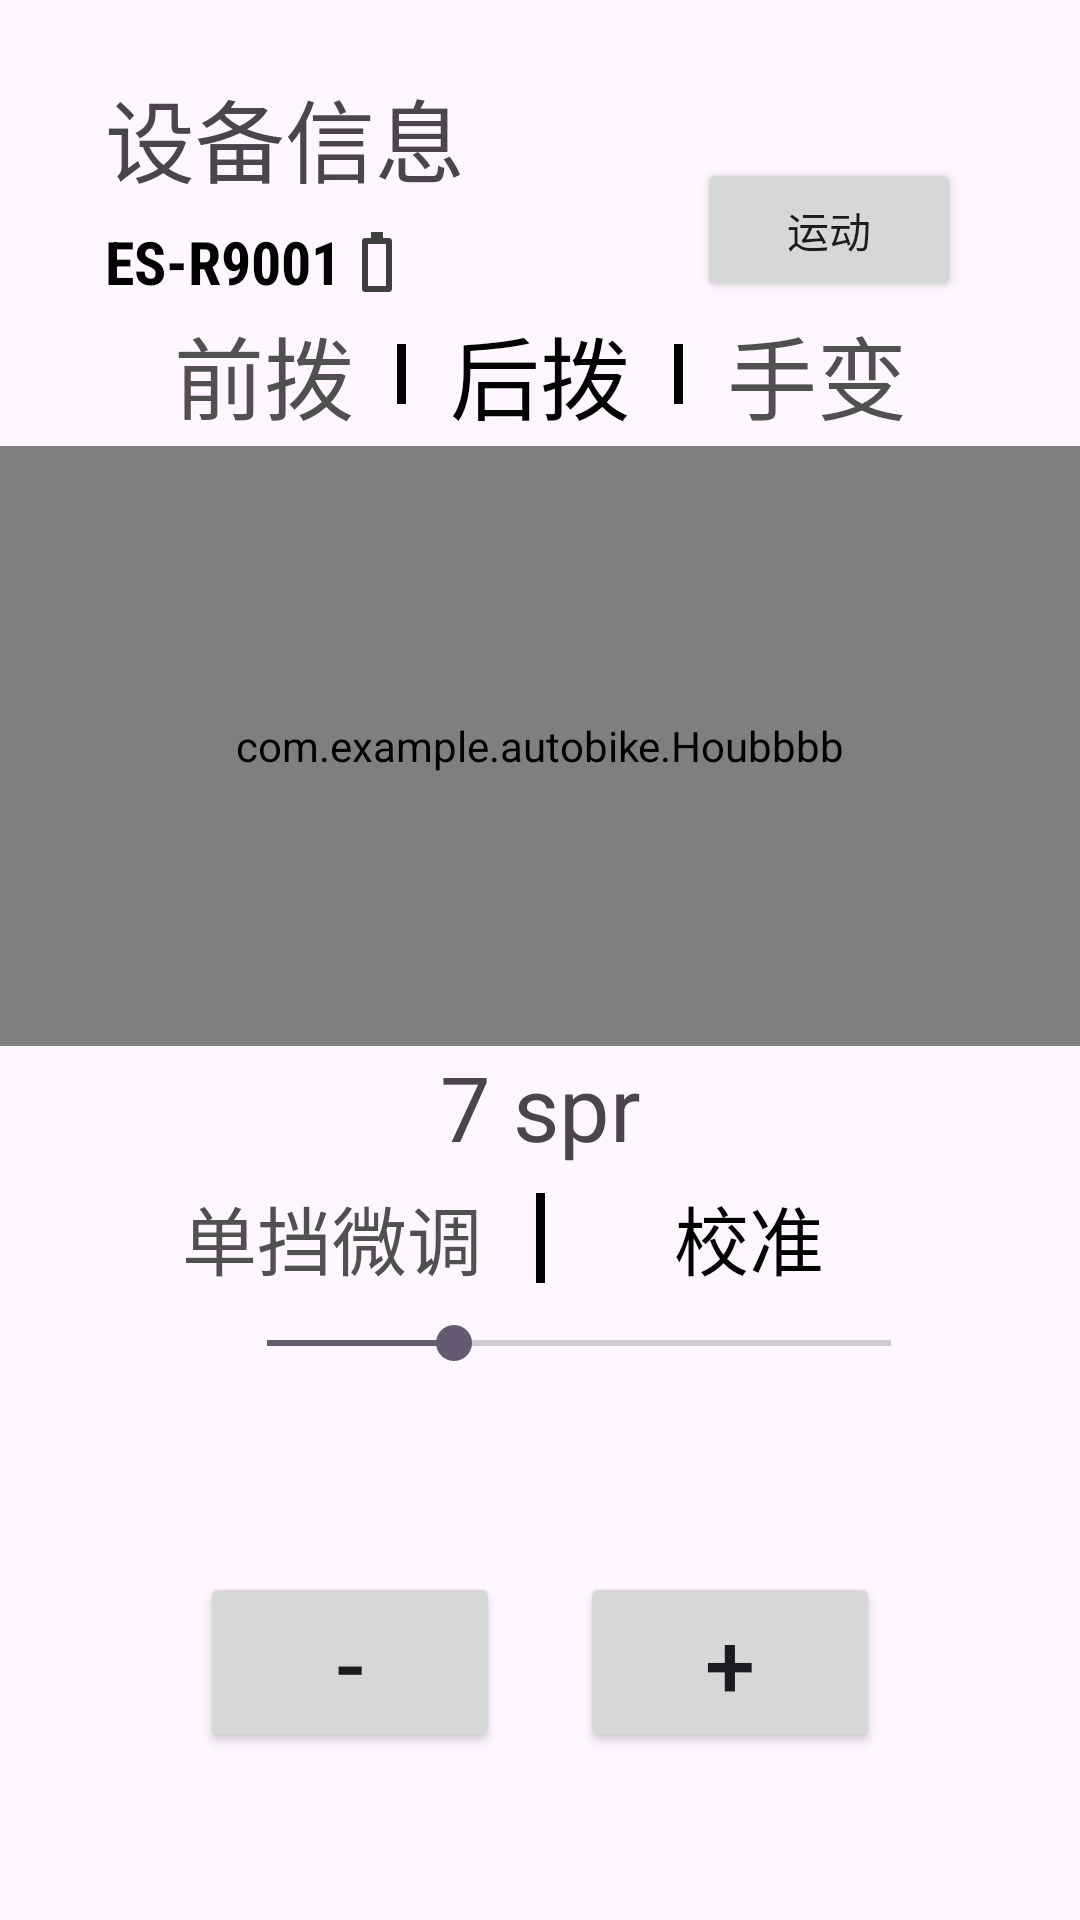

Icon click points for this 1080x1920 phone screenshot, format (x,y):
battery: (377,262)
